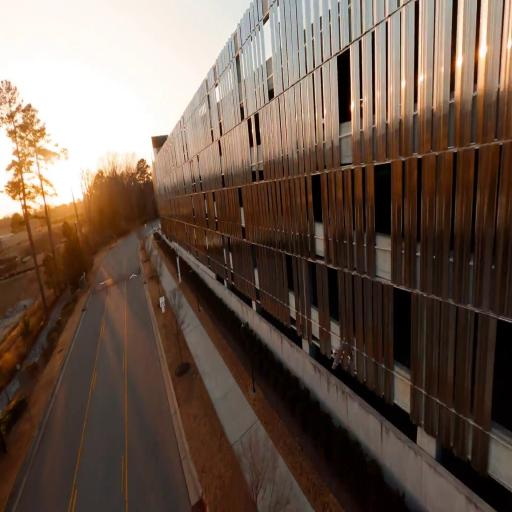uav: (326, 330, 355, 374)
